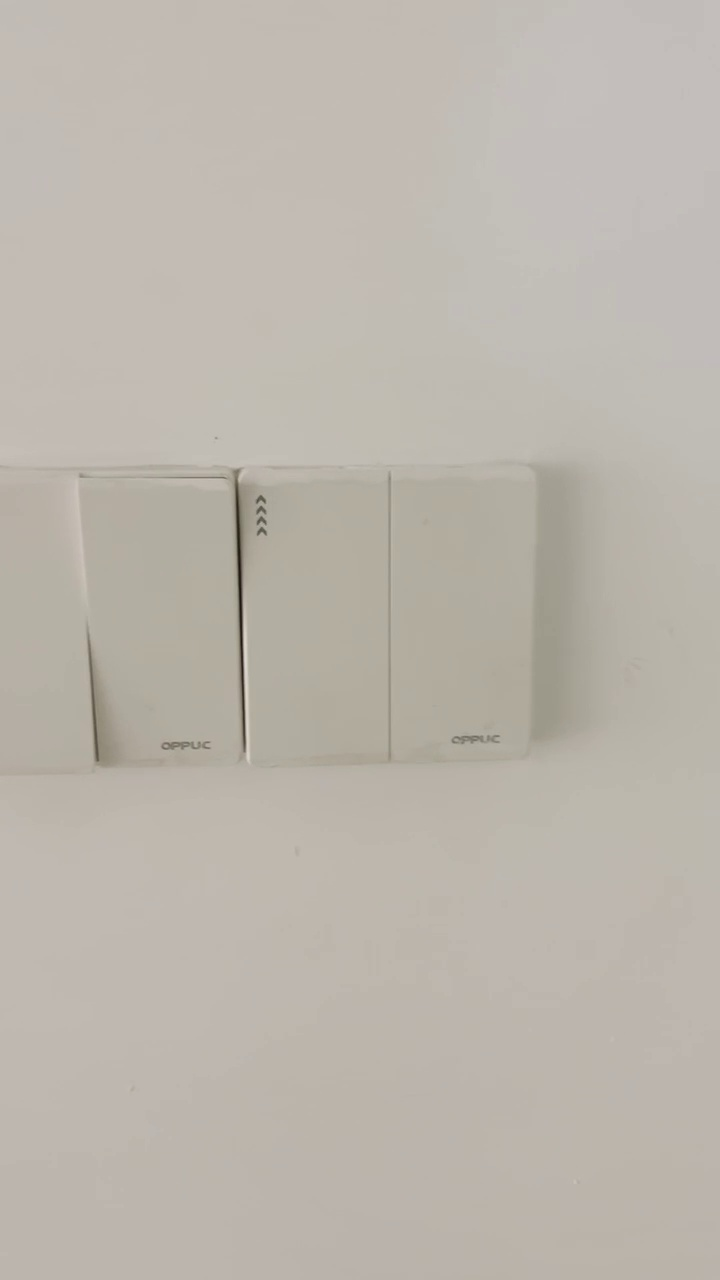button1: (86, 468, 243, 762), (240, 470, 390, 762), (392, 473, 528, 758), (0, 464, 85, 768)
